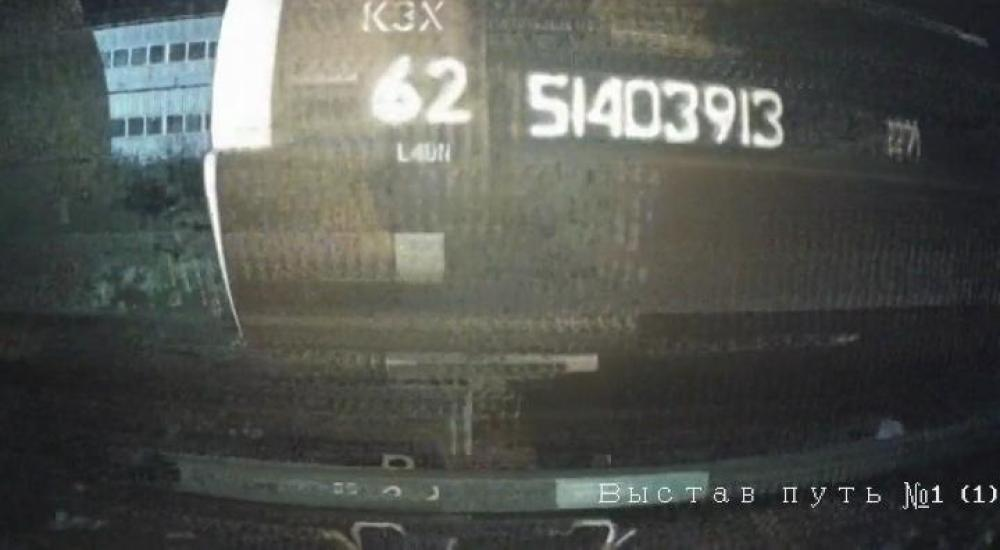Wagon-number: (519, 67, 791, 156)
